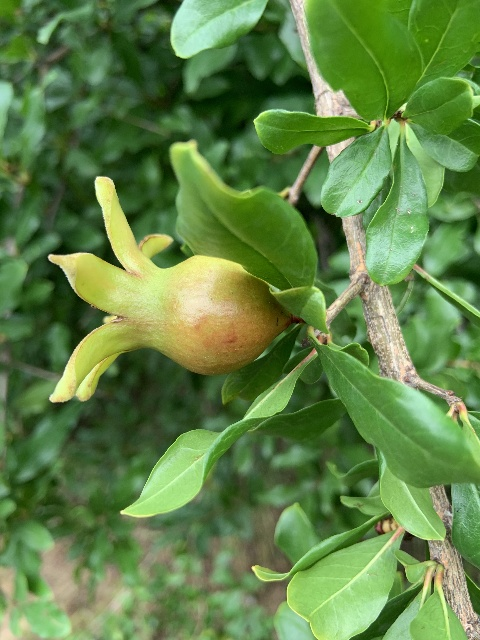early-fruit: (49, 175, 288, 405)
